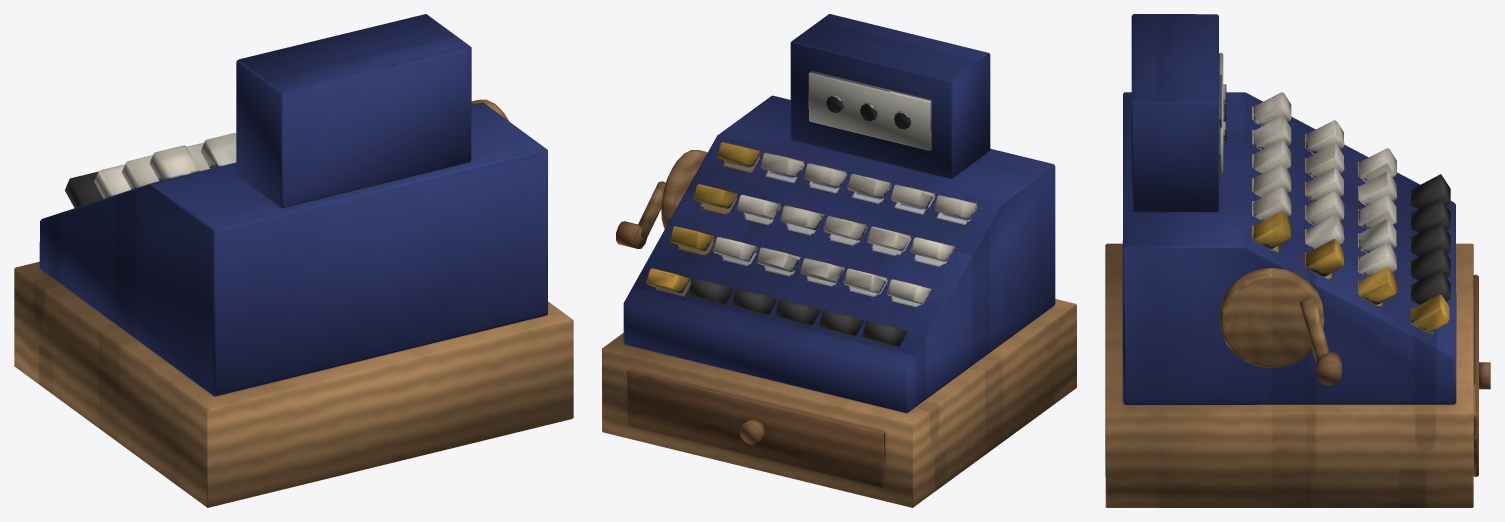
The model's file is register_navy.glb.
The picture shows the model from 3 angles, left to right: view 1: azimuth 30°, elevation 25°; view 2: azimuth 150°, elevation 25°; view 3: azimuth 270°, elevation 25°; orthographic projection. The views are drawn at different scales.
Parts seen in each view (by area): view 1: prop_register_navy_felt, prop_register_navy_wood; view 2: prop_register_navy_felt, prop_register_navy_wood; view 3: prop_register_navy_felt, prop_register_navy_wood.
Boxes of the visible parts, x1=… form: prop_register_navy_felt: x1=39, y1=14, x2=547, y2=396; prop_register_navy_wood: x1=14, y1=99, x2=573, y2=507; prop_register_navy_felt: x1=623, y1=14, x2=1055, y2=413; prop_register_navy_wood: x1=602, y1=150, x2=1076, y2=507; prop_register_navy_felt: x1=1122, y1=14, x2=1456, y2=404; prop_register_navy_wood: x1=1105, y1=243, x2=1490, y2=507.
Size of the model in its own units: 1.05 by 0.919 by 0.8774.
2 materials, 2 textured.
